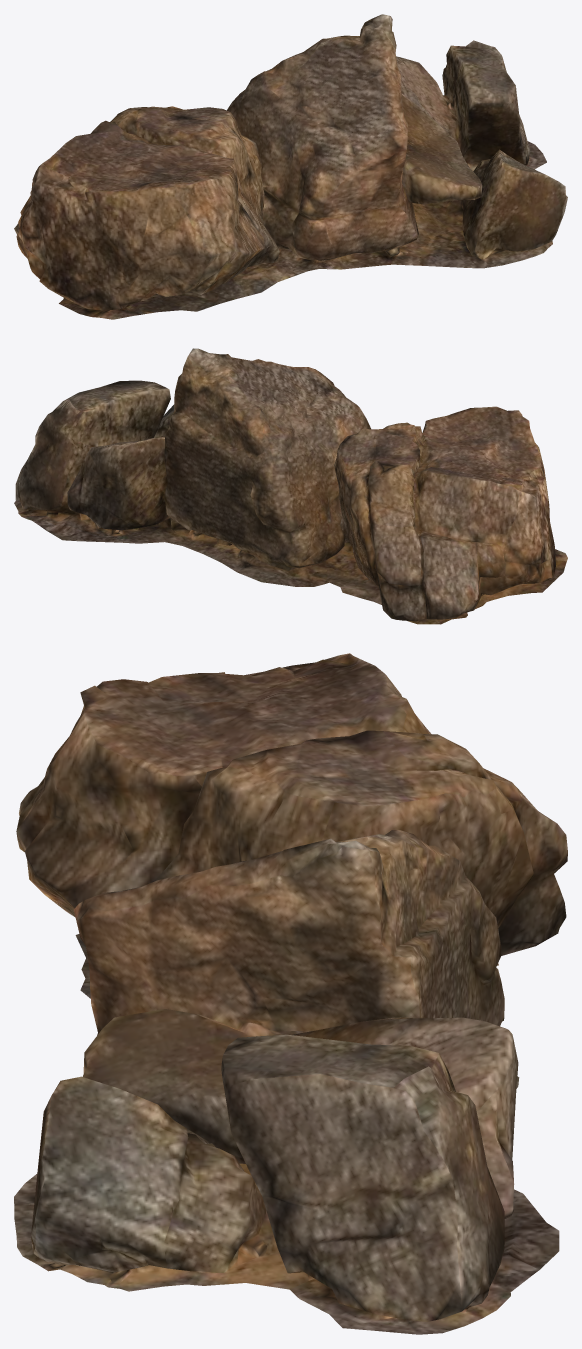
The model's file is namaqualand_boulder_02.gltf.
The picture shows the model from 3 angles, top to bottom: view 1: azimuth 30°, elevation 25°; view 2: azimuth 150°, elevation 25°; view 3: azimuth 270°, elevation 25°; orthographic projection. The views are drawn at different scales.
Visible parts, largest first — view 1: boulder_02; view 2: boulder_02; view 3: boulder_02.
Boxes of the visible parts, <box> form: boulder_02: <box>14,14,567,319</box>; boulder_02: <box>14,348,567,624</box>; boulder_02: <box>14,653,567,1334</box>.
Bounding box in the file's own units: 2.52 × 0.8803 × 1.23.
Materials: 1 (1 with a texture image).
